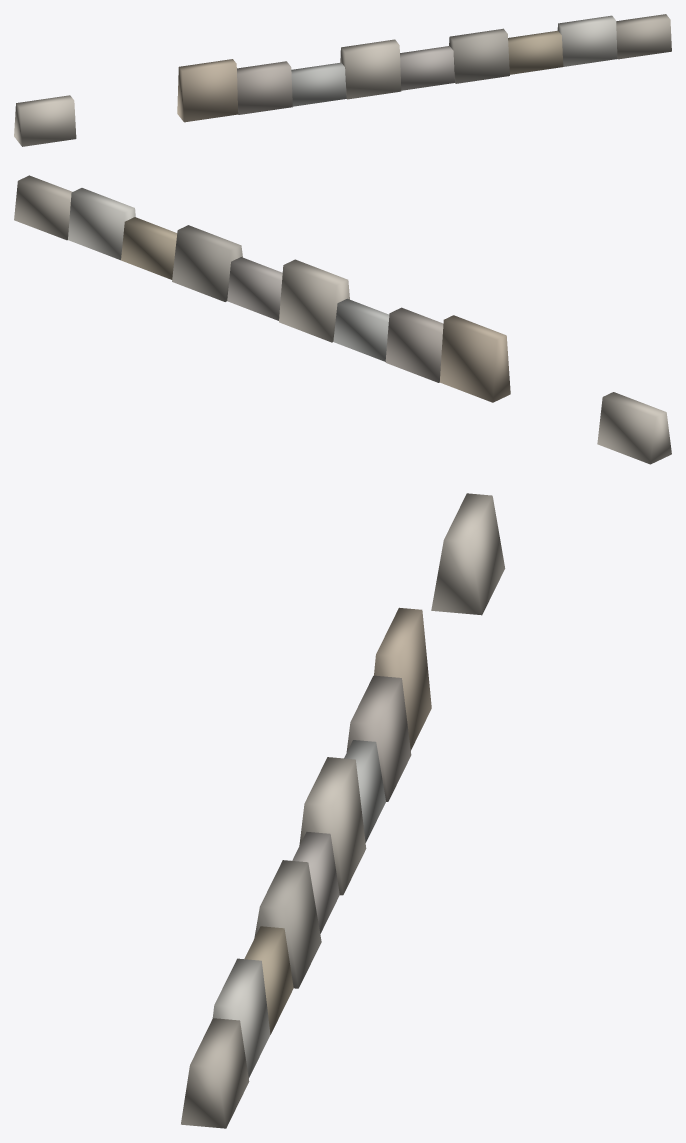
Rendered from farm_23_38_collision.glb.
3 renders of one model, top to bottom at view 1: azimuth 30°, elevation 25°; view 2: azimuth 150°, elevation 25°; view 3: azimuth 270°, elevation 25°, orthographic. The views are drawn at different scales.
Visible parts, largest first — view 1: geometry_0; view 2: geometry_0; view 3: geometry_0.
Boxes of the visible parts, x1=… form: geometry_0: x1=14, y1=14, x2=671, y2=146; geometry_0: x1=14, y1=175, x2=671, y2=464; geometry_0: x1=181, y1=493, x2=505, y2=1128.
Bounding box in the file's own units: 18.86 × 1.54 × 4.53.
